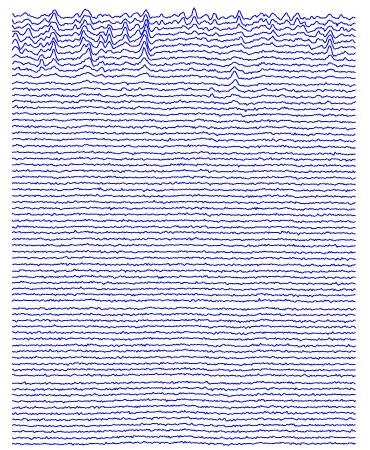defect: (74, 6, 149, 74), (260, 9, 303, 45), (207, 68, 244, 101), (43, 7, 61, 69), (12, 24, 37, 59), (181, 9, 218, 32), (232, 11, 246, 47), (323, 29, 336, 57)
